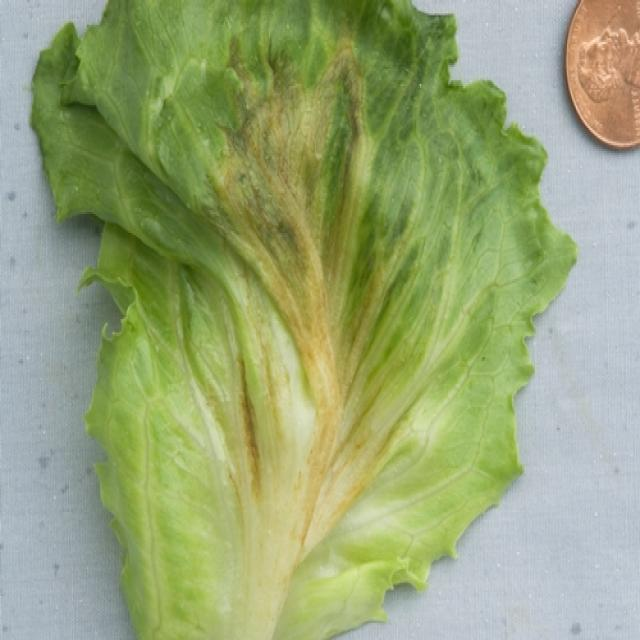Downy_mildew_on_lettuce: (169, 199, 410, 548)
